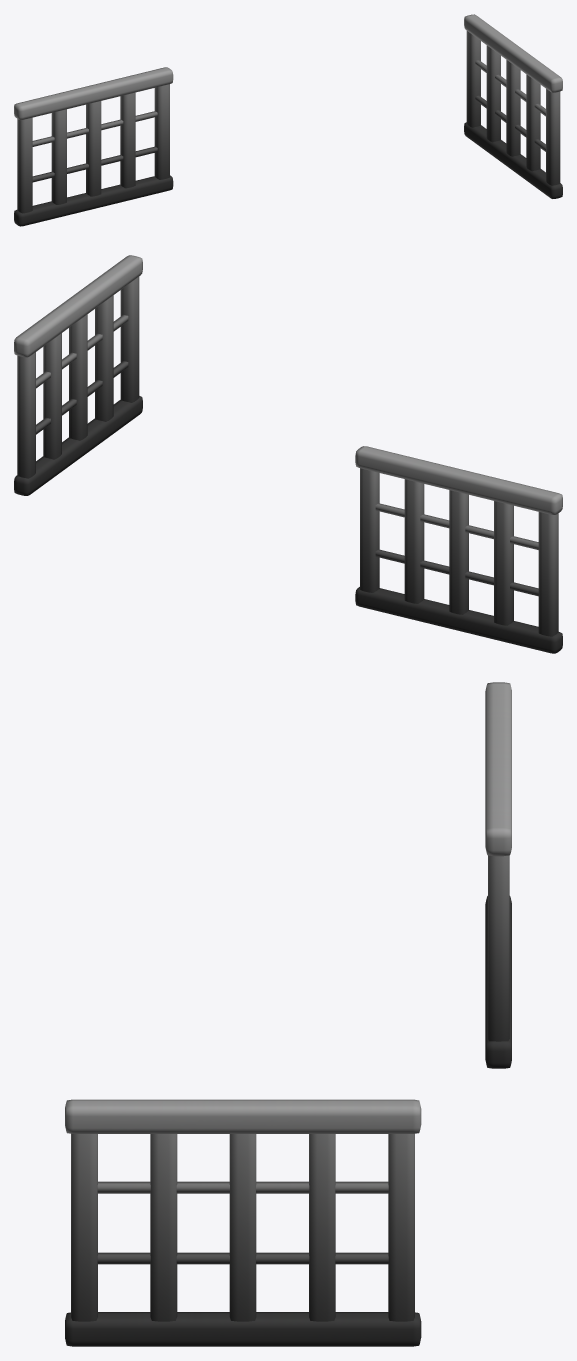
The model's file is SM_Wood_Window_06.fbx.
3 views of the same model, one above another, from view 1: azimuth 30°, elevation 25°; view 2: azimuth 150°, elevation 25°; view 3: azimuth 270°, elevation 25° (orthographic). The views are drawn at different scales.
Parts seen in each view (by area): view 1: SM_Wood_Window_06; view 2: SM_Wood_Window_06; view 3: SM_Wood_Window_06.
Boxes of the visible parts, x1=… form: SM_Wood_Window_06: x1=14, y1=14, x2=562, y2=226; SM_Wood_Window_06: x1=14, y1=255, x2=562, y2=653; SM_Wood_Window_06: x1=65, y1=682, x2=511, y2=1346.
Bounding box in the file's own units: 1.81 × 0.4728 × 0.8006.
